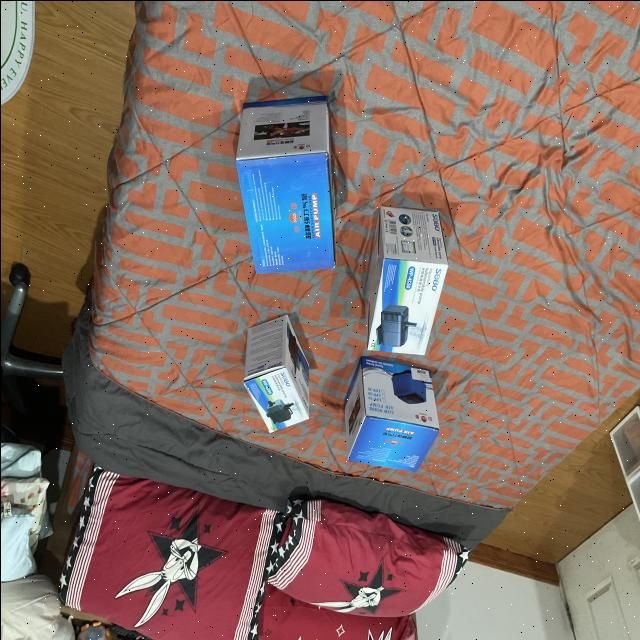SOBO_WP_4200: (350, 202, 448, 360), (241, 304, 319, 428)
YAMANO_LPP_20: (228, 81, 346, 266), (342, 349, 448, 476)
